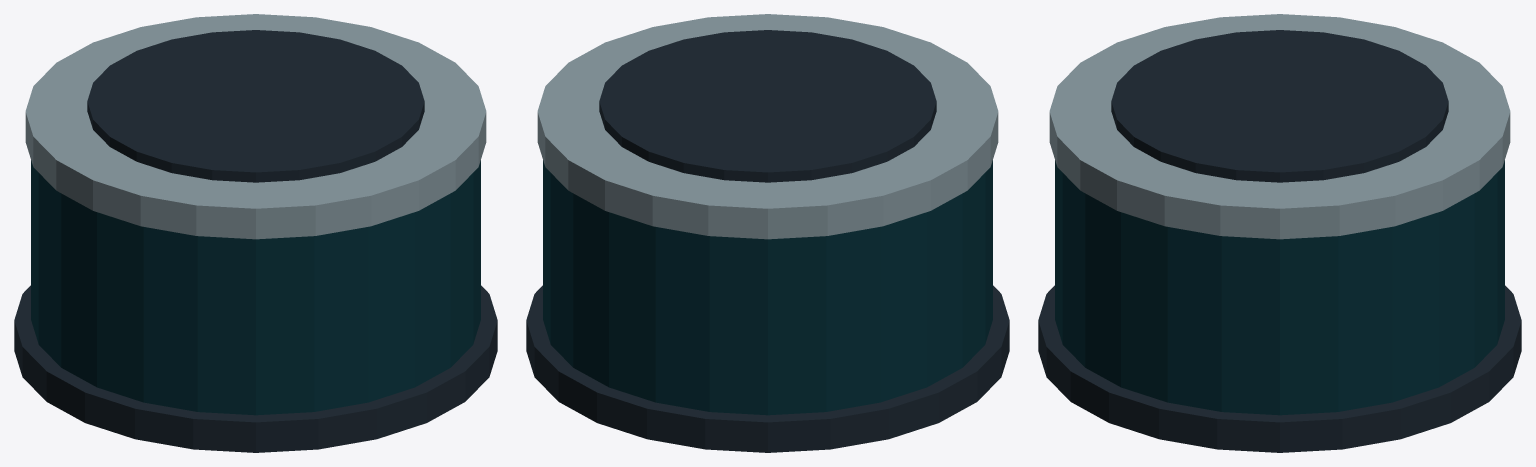
The model's file is lidar_shell.dae.
3 views of the same model, side by side, from view 1: azimuth 30°, elevation 25°; view 2: azimuth 150°, elevation 25°; view 3: azimuth 270°, elevation 25° (orthographic).
Parts seen in each view (by area): view 1: model; view 2: model; view 3: model.
Boxes of the visible parts, x1,y1,x2,y2 form: model: (14, 14, 497, 452); model: (526, 14, 1009, 452); model: (1038, 14, 1521, 452).
Bounding box in the file's own units: 0.086 × 0.086 × 0.049.
